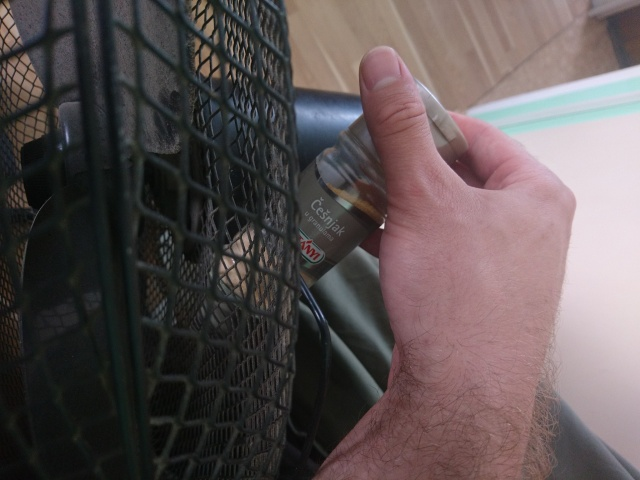Kotanyi Garlic Granules 70g: (170, 73, 473, 346)
